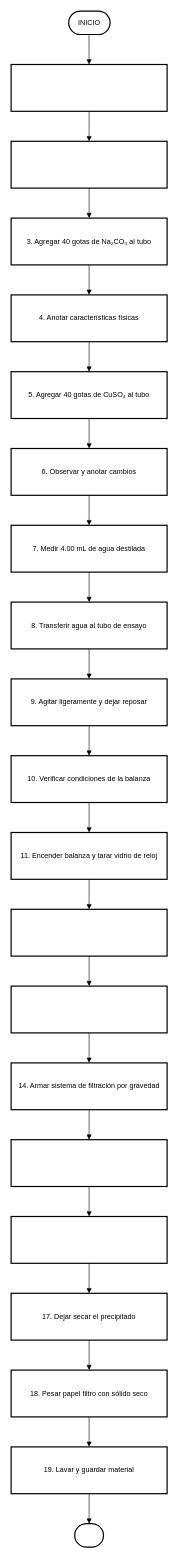
Some shapes in this 178 by 1558 pixel diagram are drawn without their labels. Each missing label, with the centre of its shape:
"1. Lavar y secar material de laboratorio" goes at (88,88).
"12. Pesar dos círculos de papel filtro" goes at (88,932).
"13. Doblar papel filtro en 16 sectores" goes at (88,1009).
"15. Filtrar contenido del tubo" goes at (88,1163).
"16. Colocar papel filtro en frasco identificado" goes at (88,1240).
"2. Rotular el tubo de ensayo" goes at (88,164).
"FIN" goes at (89,1535).
